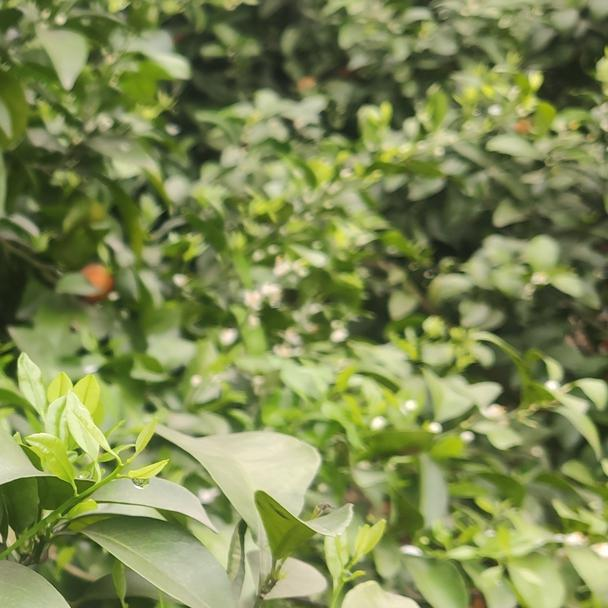shoot: (30, 405, 168, 522)
